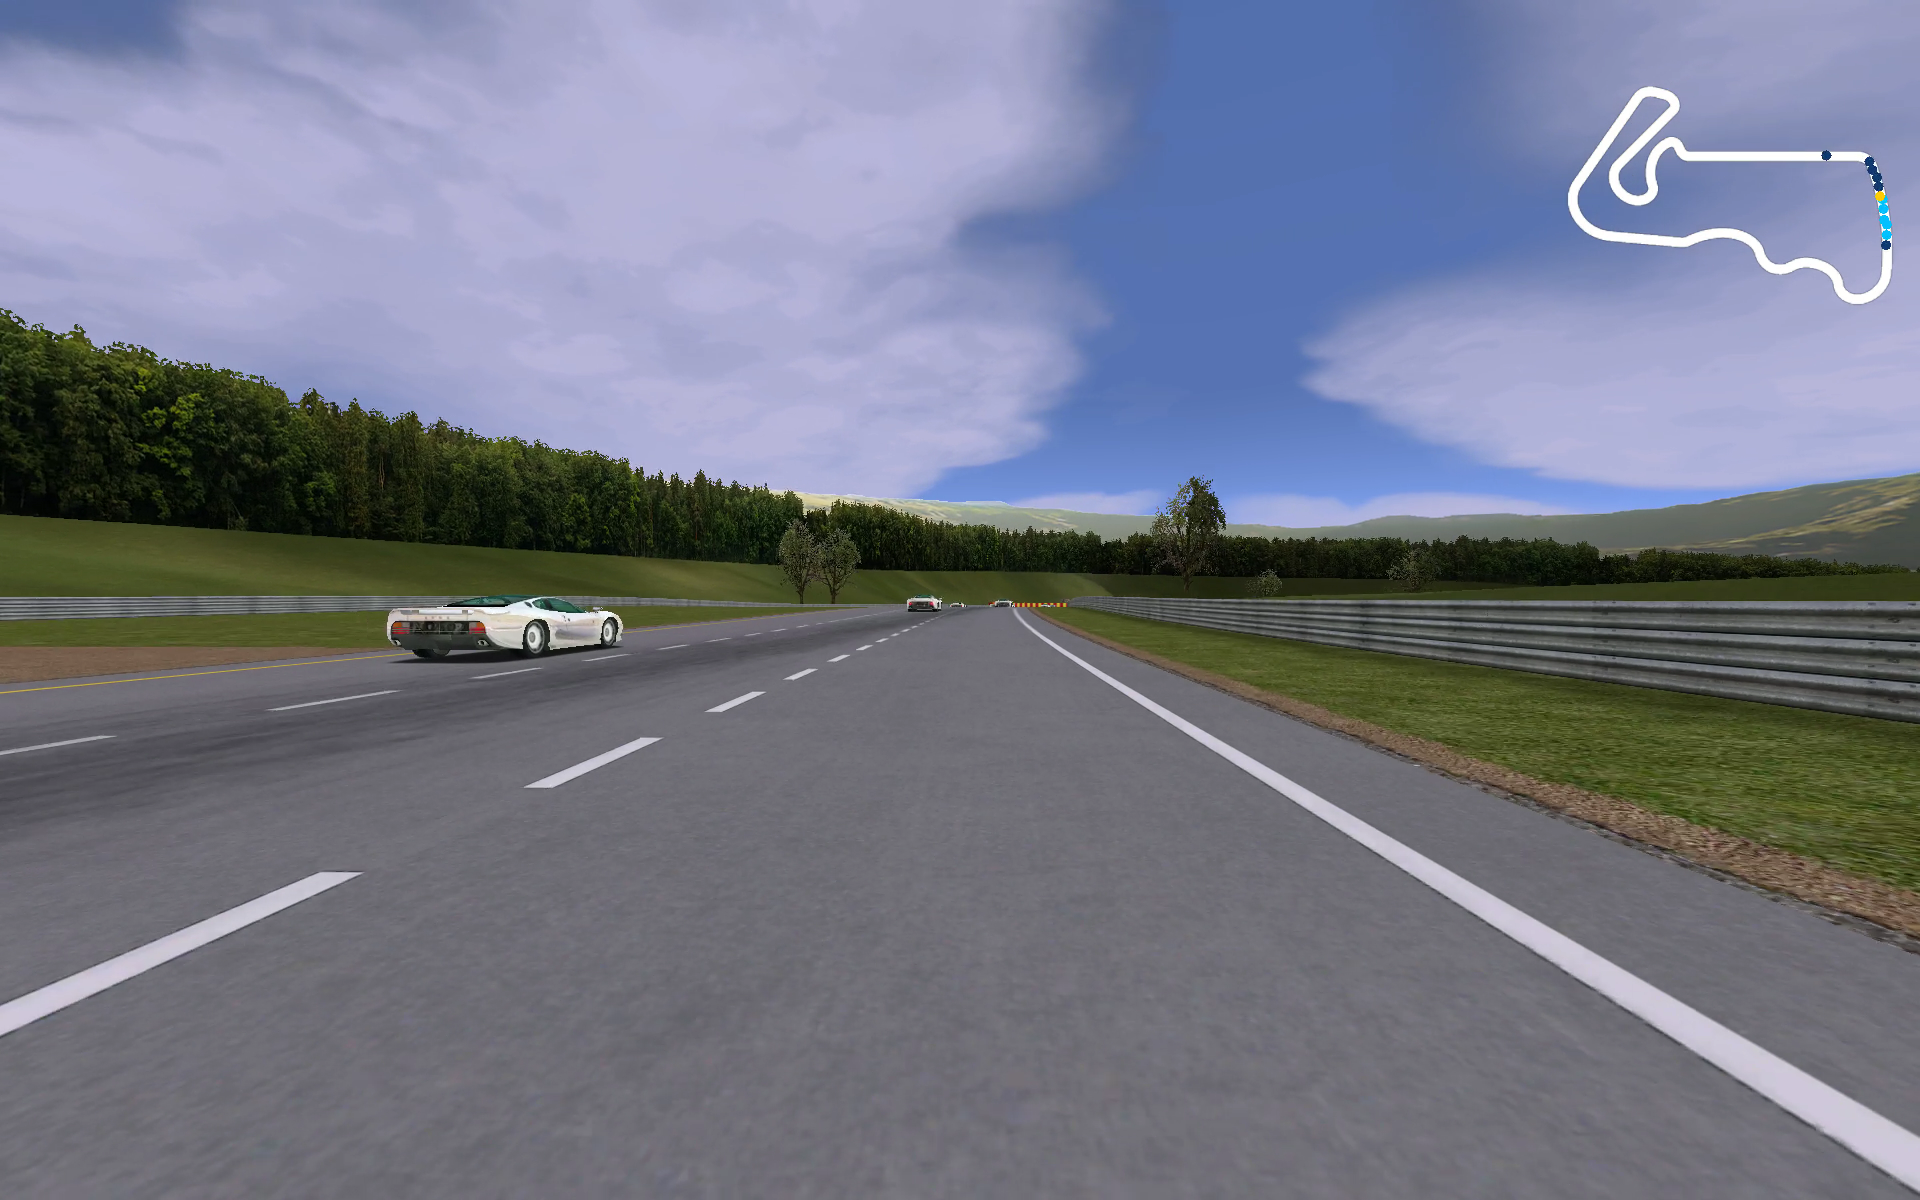car: (384, 593, 628, 659), (903, 592, 945, 614), (945, 599, 965, 612), (992, 597, 1012, 610)
